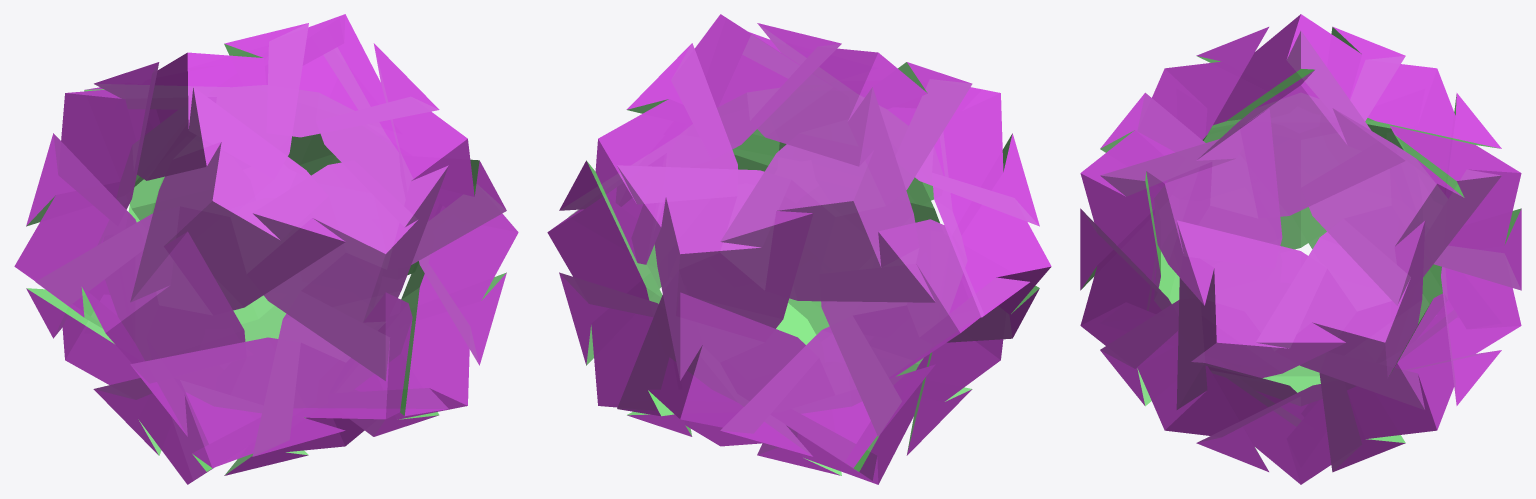
File: RegularMap_H.obj
3 renders of one model, left to right at view 1: azimuth 30°, elevation 25°; view 2: azimuth 150°, elevation 25°; view 3: azimuth 270°, elevation 25°, orthographic. The views are drawn at different scales.
Bounding box in the file's own units: 4.93 × 4.93 × 4.93.
